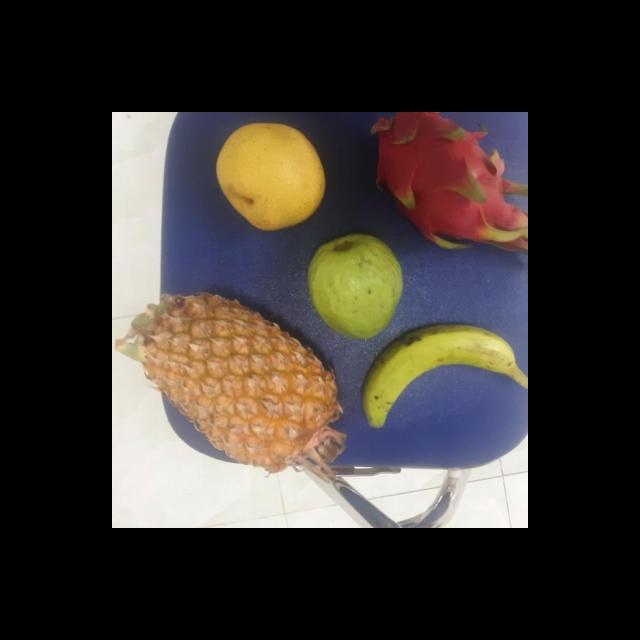banana: (356, 325, 514, 427)
guava: (299, 232, 406, 342)
pear: (213, 120, 326, 234)
pineapple: (134, 294, 340, 466)
pitaya: (359, 113, 528, 260)
